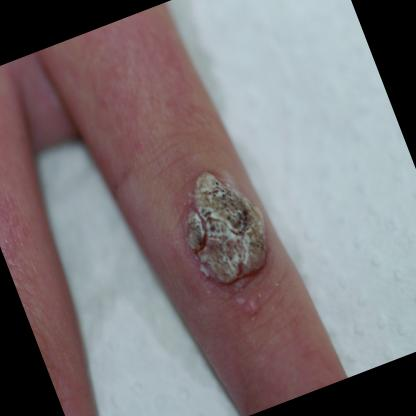Warts: (153, 142, 289, 320)
